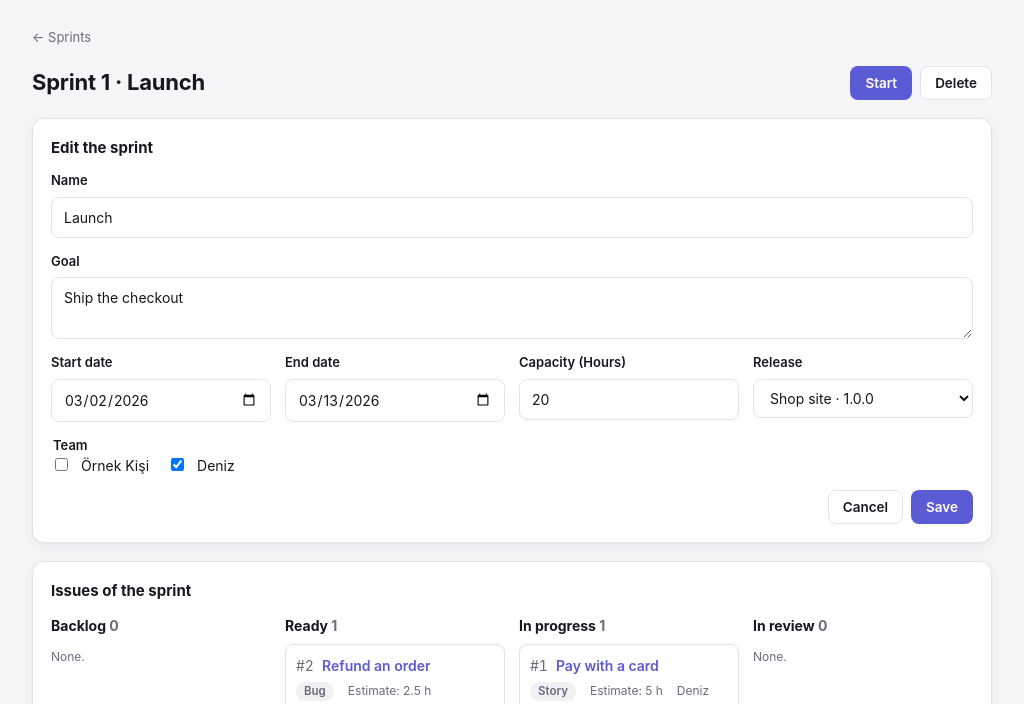
Test: the sprint page: changing the sprint › shows the API's refusal and keeps the form
The image size is (1024, 704).
What coordinates should you click on to do the following:
click the button "Save"
I would click on:
 (942, 507)
Its box is x1=911 y1=490 x2=973 y2=524.
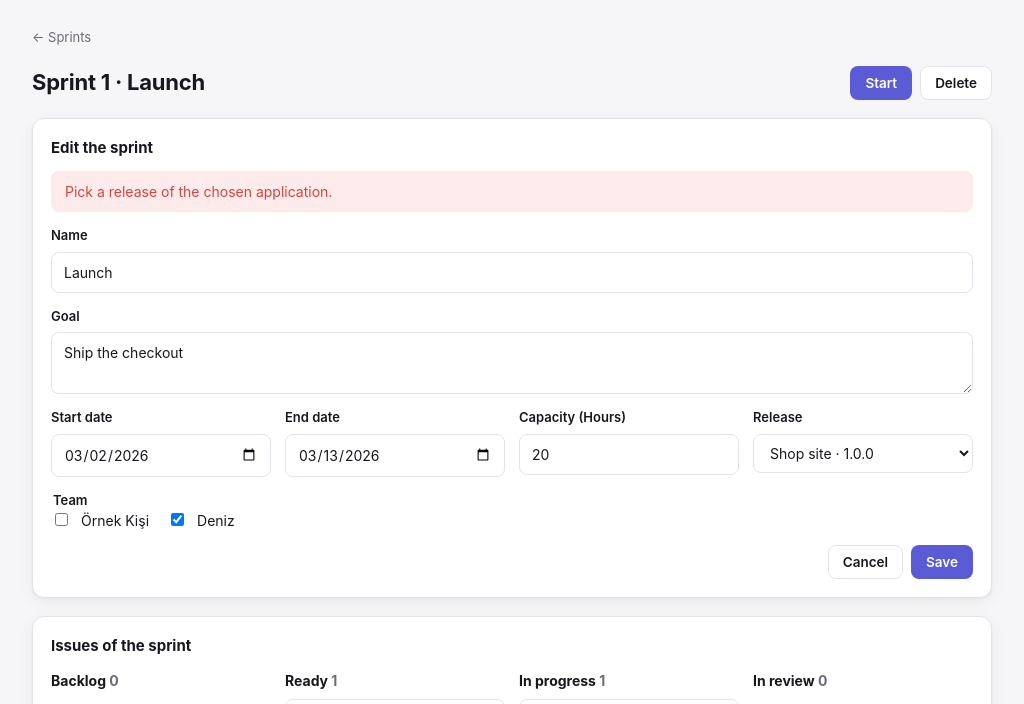
Expected: the field labelled "Name" is shown, x1=51 y1=252 x2=973 y2=292
Expected: the text "Pick a release of the chosen application." is shown, x1=51 y1=171 x2=973 y2=212
